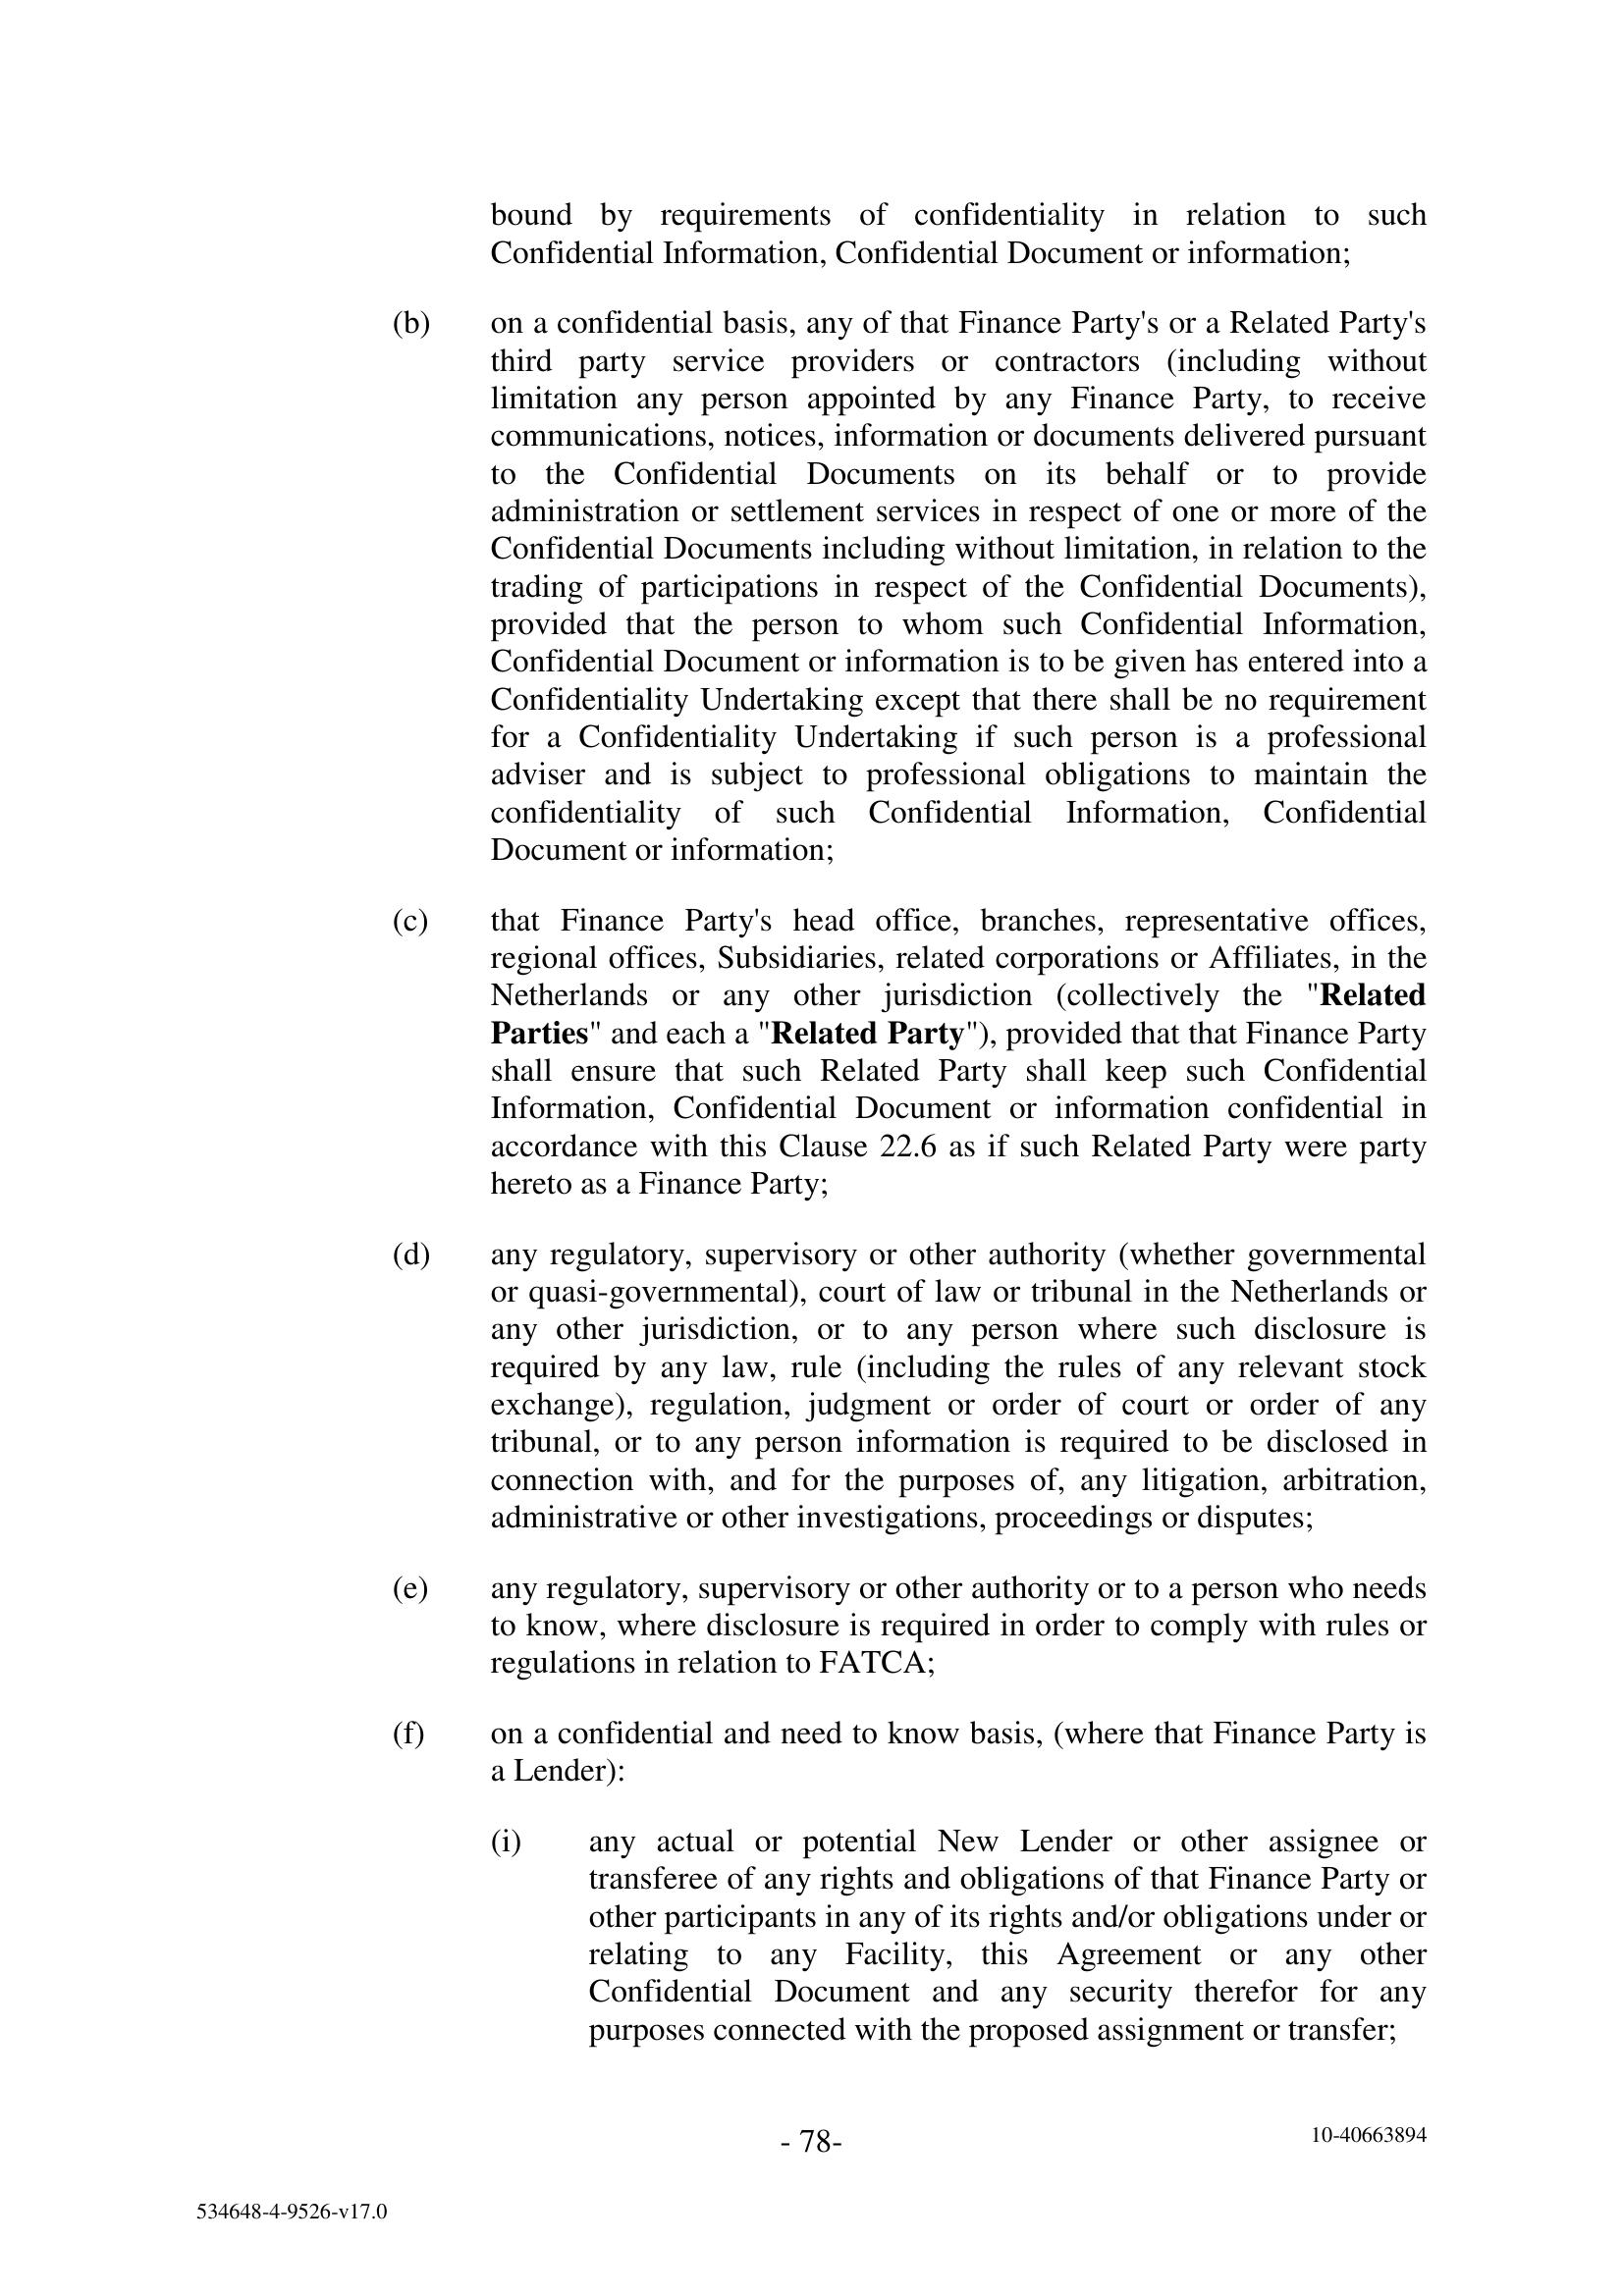pageno: (727, 2077, 894, 2219)
tag: (104, 2161, 494, 2270), (1205, 2085, 1569, 2191)
